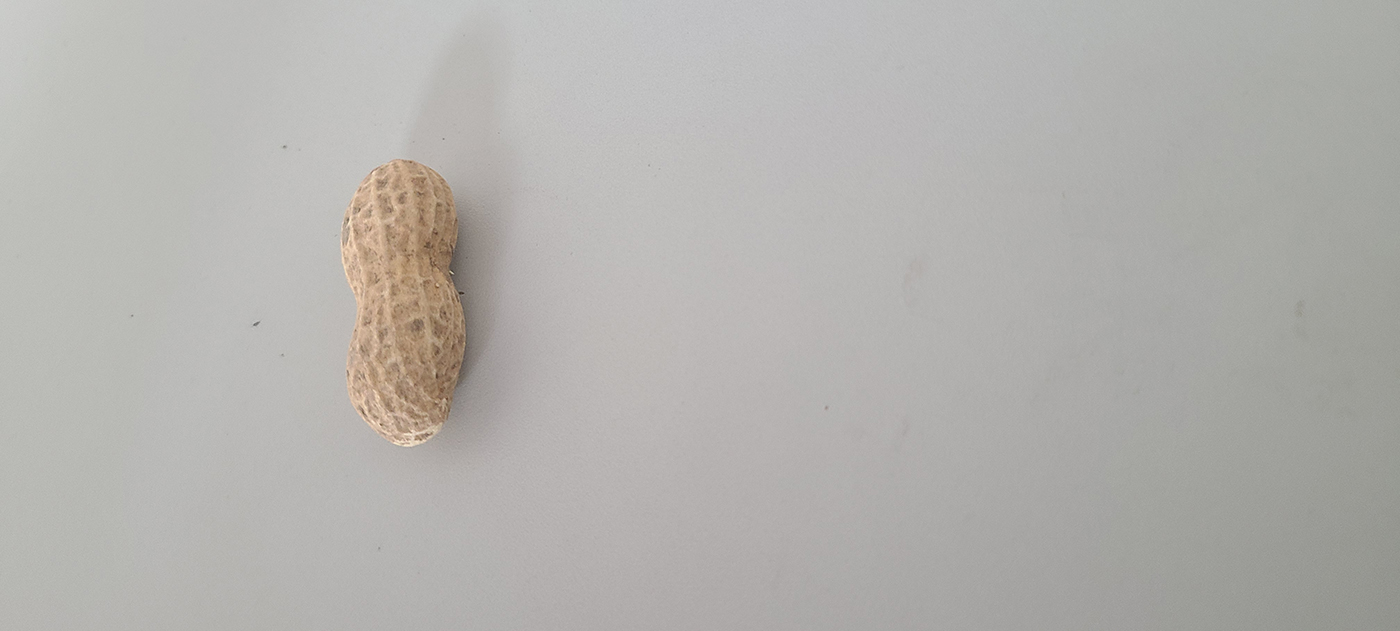h: (336, 159, 466, 447)
